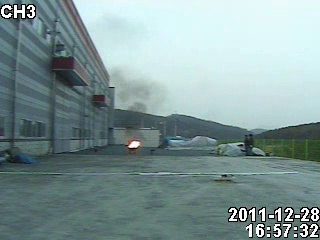fire: (122, 135, 143, 149)
